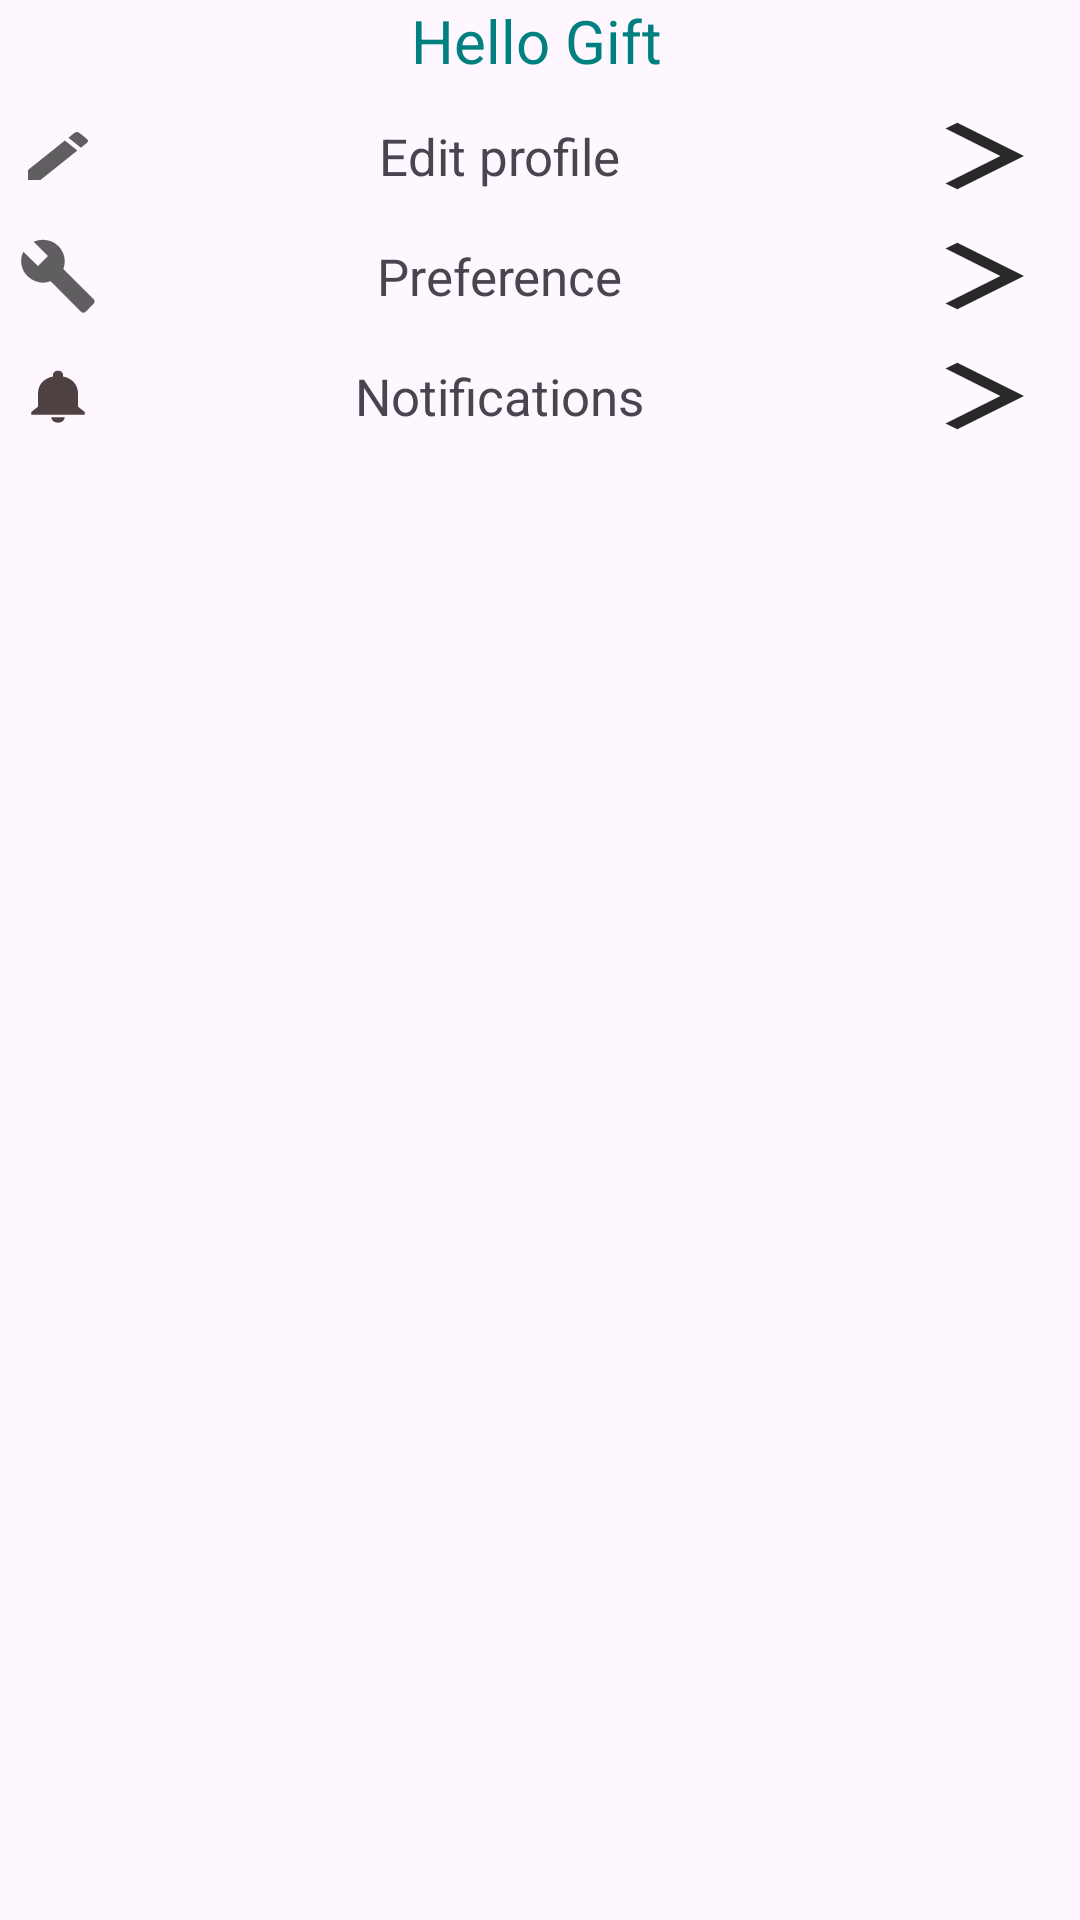

Icons on this 1080x1920 Android screen, each with its box as (x1=x1, y1=y1, x2=x2, y2=y2):
arrow forward: (x1=946, y1=122, x2=1024, y2=190), (x1=946, y1=242, x2=1024, y2=310), (x1=946, y1=362, x2=1024, y2=430)
build: (x1=21, y1=239, x2=95, y2=313)
